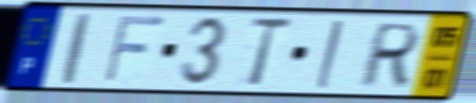3: (178, 14, 230, 89)
F: (100, 13, 169, 86)
I: (60, 10, 93, 87), (313, 17, 346, 91)
R: (355, 21, 425, 90)
T: (246, 16, 295, 89)
